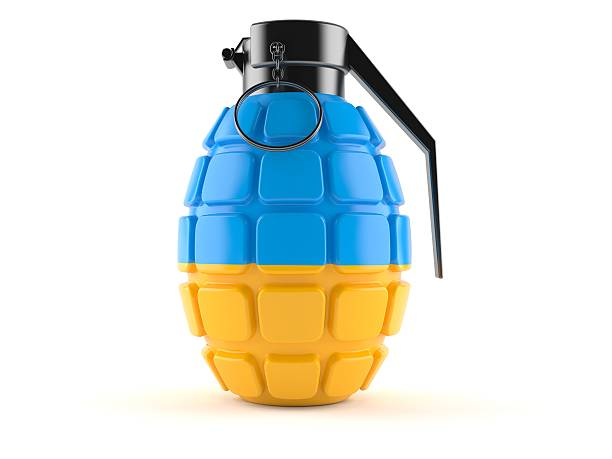e1: (185, 17, 445, 411)
